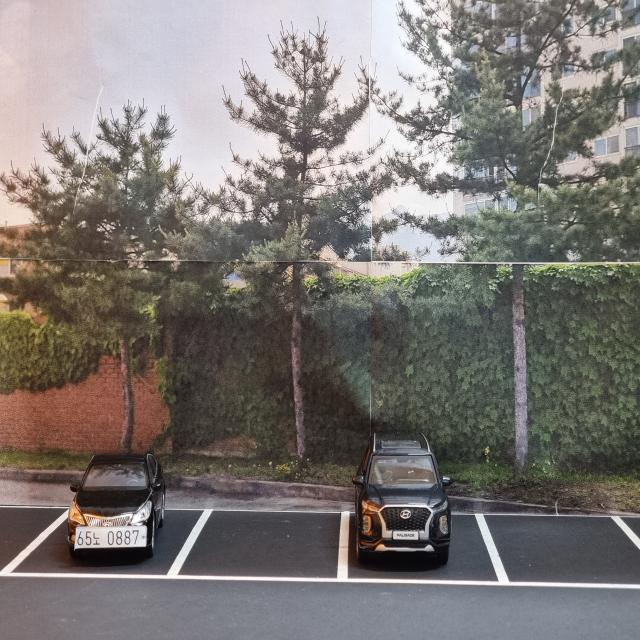empty: (474, 500, 640, 602), (184, 502, 347, 592), (0, 502, 50, 568)
occupied: (357, 432, 451, 571), (70, 446, 166, 557)
